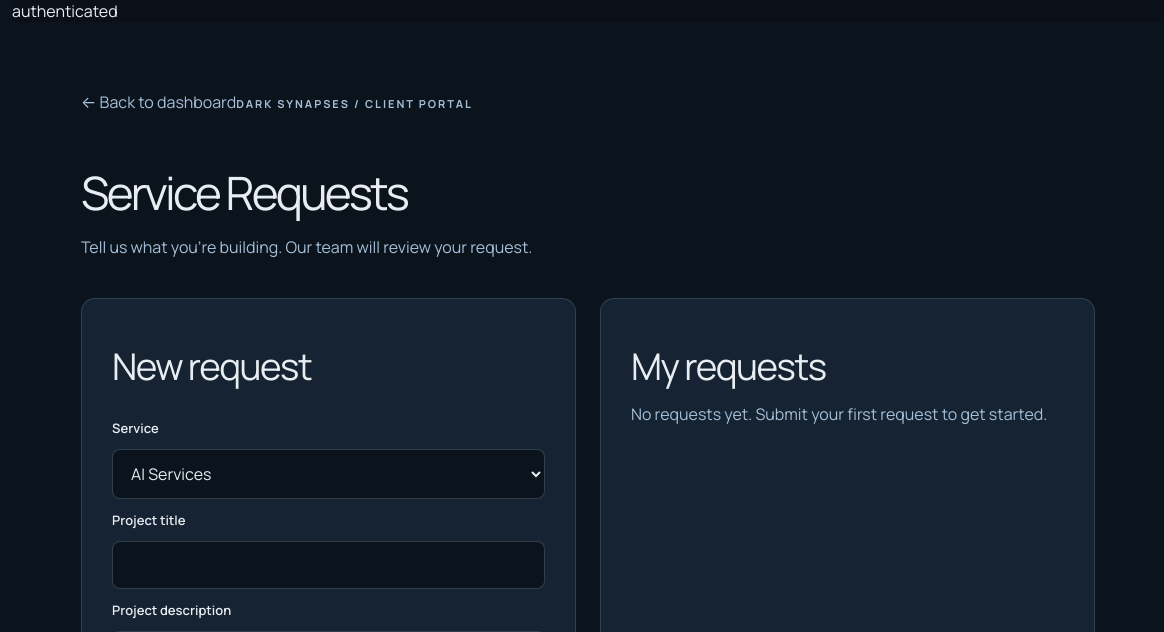
Test: ServiceRequestsPage stale submission › ignores a POST response after session invalidation
Expected: the text "No requests yet. Submit your first request to get started." is shown, x1=631 y1=403 x2=1064 y2=425
In the field labelled "Project title": (329, 565) x1=112 y1=541 x2=545 y2=589, type "AI Automation Project"
(page scrolled)
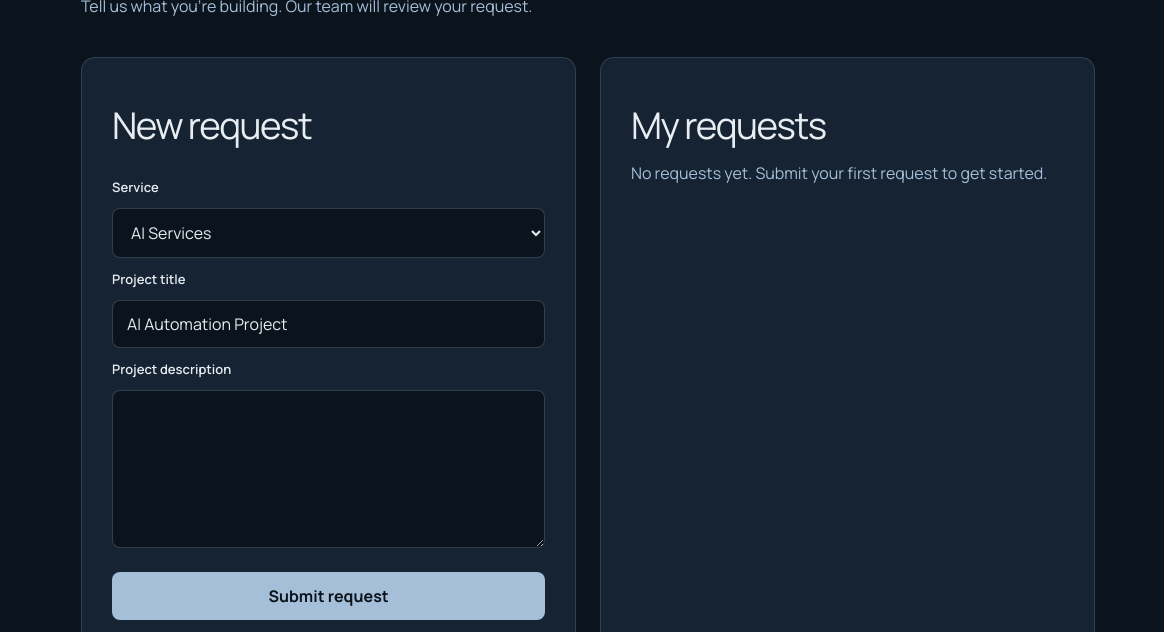
In the text box labelled "Project description": (329, 469) x1=112 y1=390 x2=545 y2=548, type "Build an AI automation workflow."
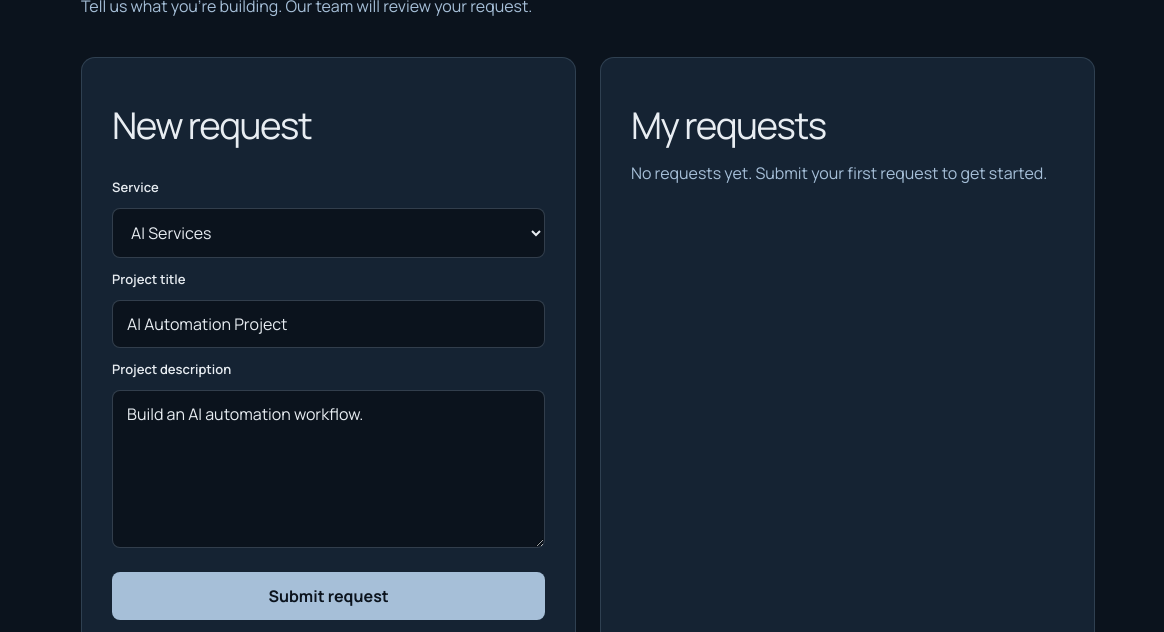
Click the button "Submit request": (329, 596) x1=112 y1=572 x2=545 y2=620
(page scrolled)
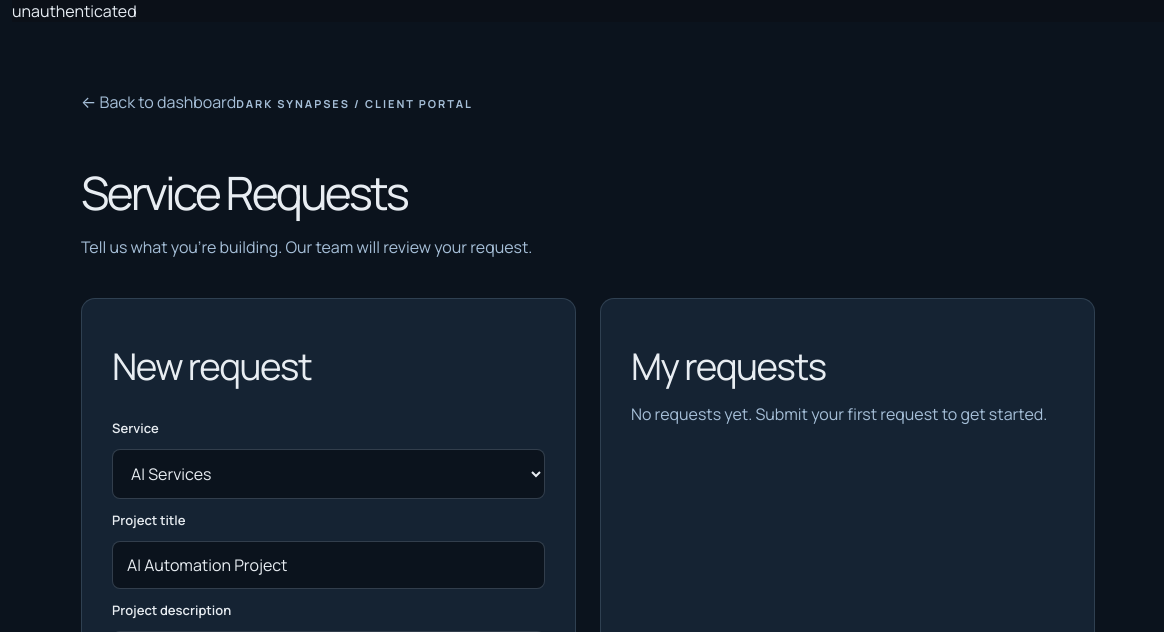
Result: the text with test id "auth-status" reads "unauthenticated" at x1=12 y1=0 x2=137 y2=22
